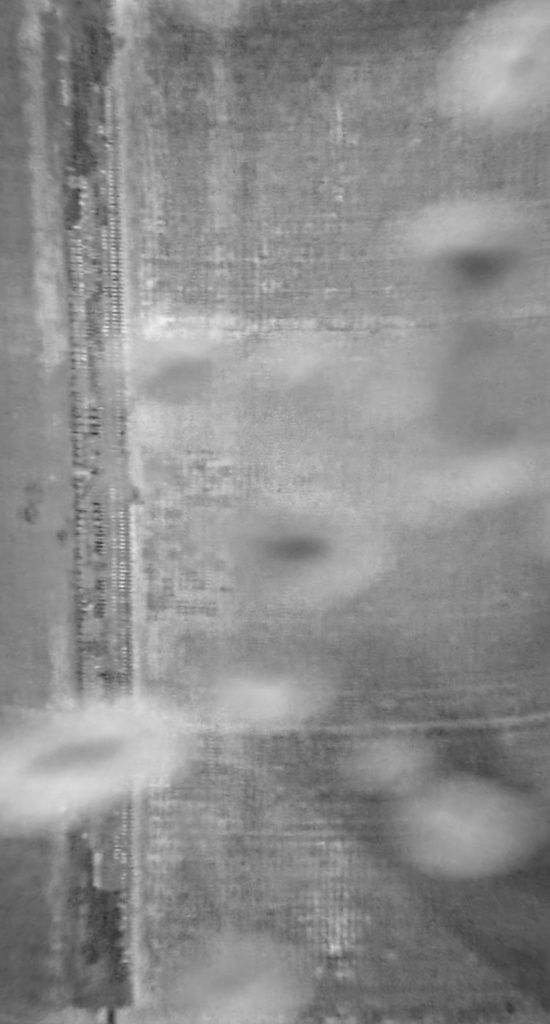splice: (44, 1, 131, 1024)
